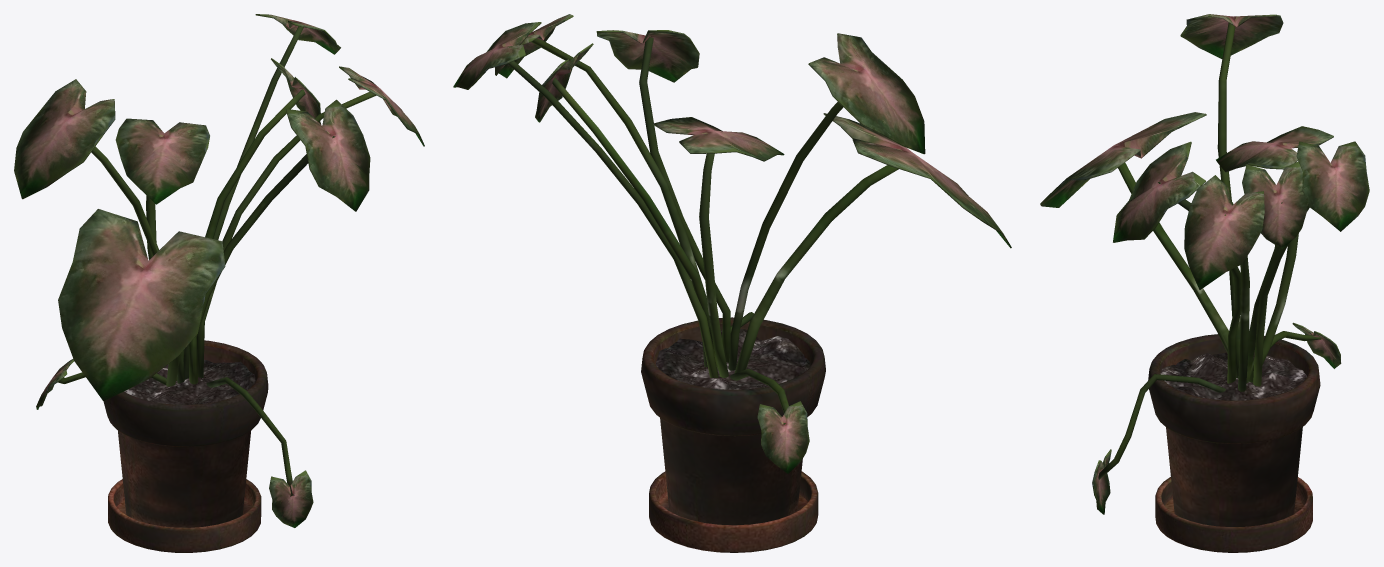
File: pot plant_double sided.fbx
3 views of the same model, side by side, from view 1: azimuth 30°, elevation 25°; view 2: azimuth 150°, elevation 25°; view 3: azimuth 270°, elevation 25° (orthographic). The views are drawn at different scales.
Parts seen in each view (by area): view 1: pot plant_plant, pot plant, pot plant_soil; view 2: pot plant_plant, pot plant, pot plant_soil; view 3: pot plant_plant, pot plant, pot plant_soil.
Part boxes in pixels (x1,y1,x2,y2): pot plant_plant: [14, 14, 424, 527]; pot plant: [103, 340, 268, 552]; pot plant_soil: [124, 360, 255, 404]; pot plant_plant: [453, 14, 1011, 473]; pot plant: [641, 317, 825, 552]; pot plant_soil: [655, 329, 810, 389]; pot plant_plant: [1040, 14, 1369, 514]; pot plant: [1148, 334, 1320, 552]; pot plant_soil: [1160, 352, 1307, 400].
Size of the model in its own units: 3304 by 3552 by 2288.
1 material, 1 textured.
